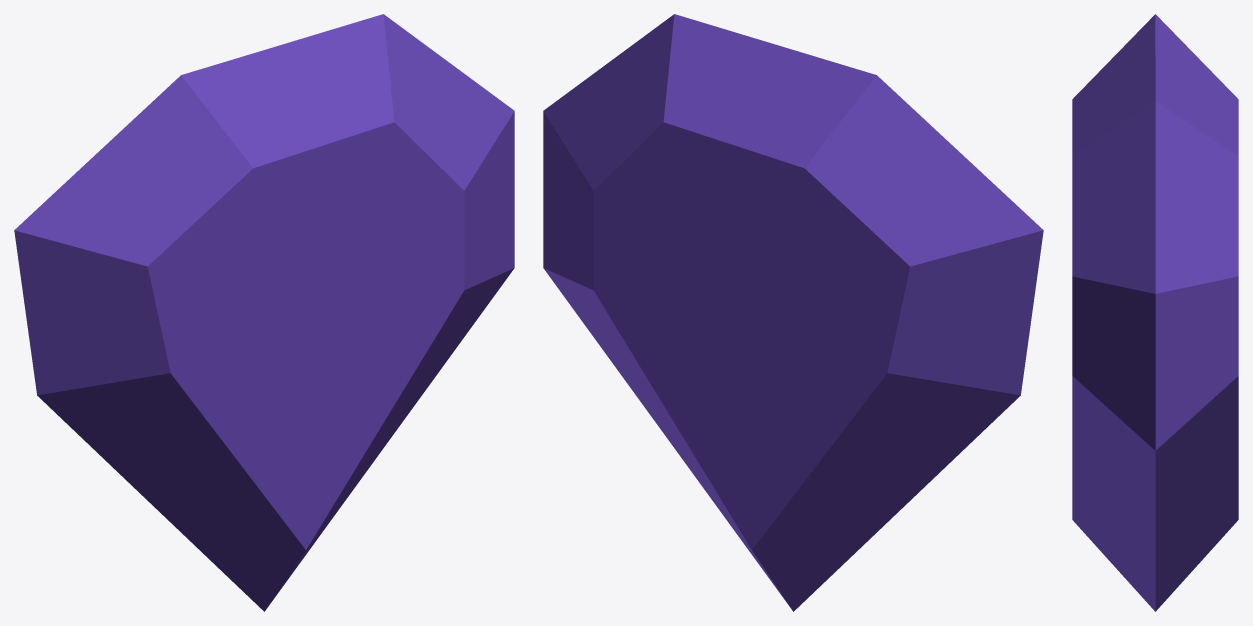
The model's file is Gem_14.fbx.
3 views of the same model, side by side, from view 1: azimuth 30°, elevation 25°; view 2: azimuth 150°, elevation 25°; view 3: azimuth 270°, elevation 25° (orthographic).
Parts seen in each view (by area): view 1: Gem_14; view 2: Gem_14; view 3: Gem_14.
Part boxes in pixels (x1,y1,x2,y2): Gem_14: (14, 14, 514, 611); Gem_14: (543, 14, 1043, 611); Gem_14: (1072, 14, 1238, 611).
Bounding box in the file's own units: 70.32 × 76.39 × 20.22.
